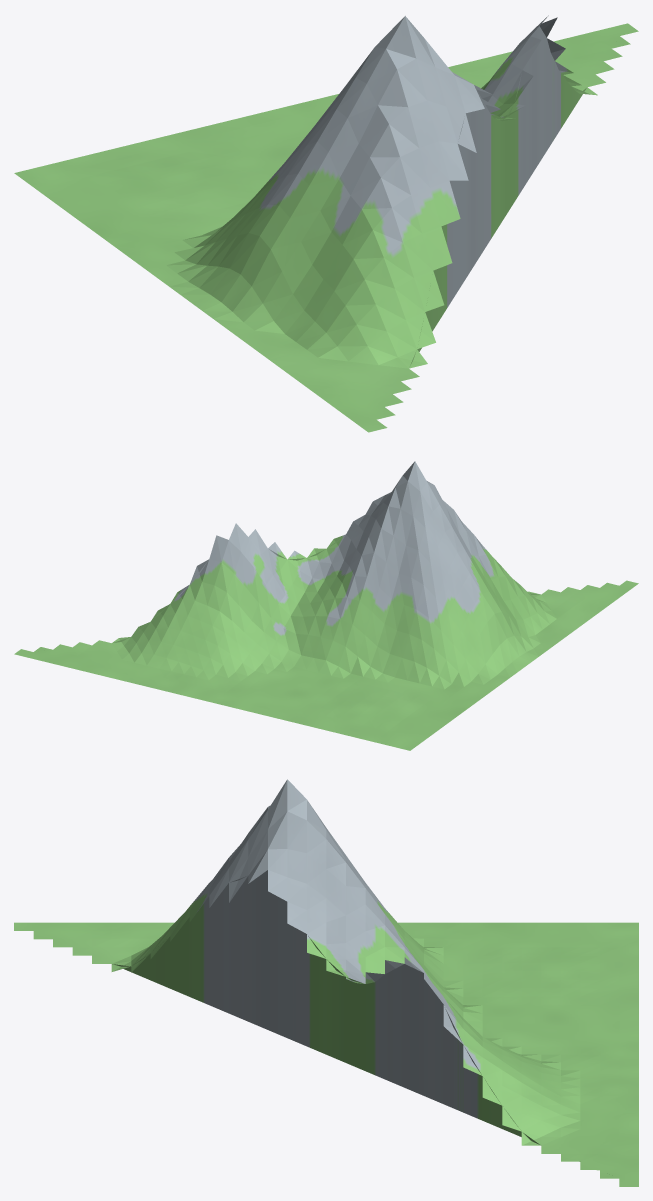
Rendered from Grass_RockyMountains_05_SW.obj.
The picture shows the model from 3 angles, top to bottom: view 1: azimuth 30°, elevation 25°; view 2: azimuth 150°, elevation 25°; view 3: azimuth 270°, elevation 25°; orthographic projection. The views are drawn at different scales.
Size of the model in its own units: 10 by 3.99 by 10.
1 material, 1 textured.
